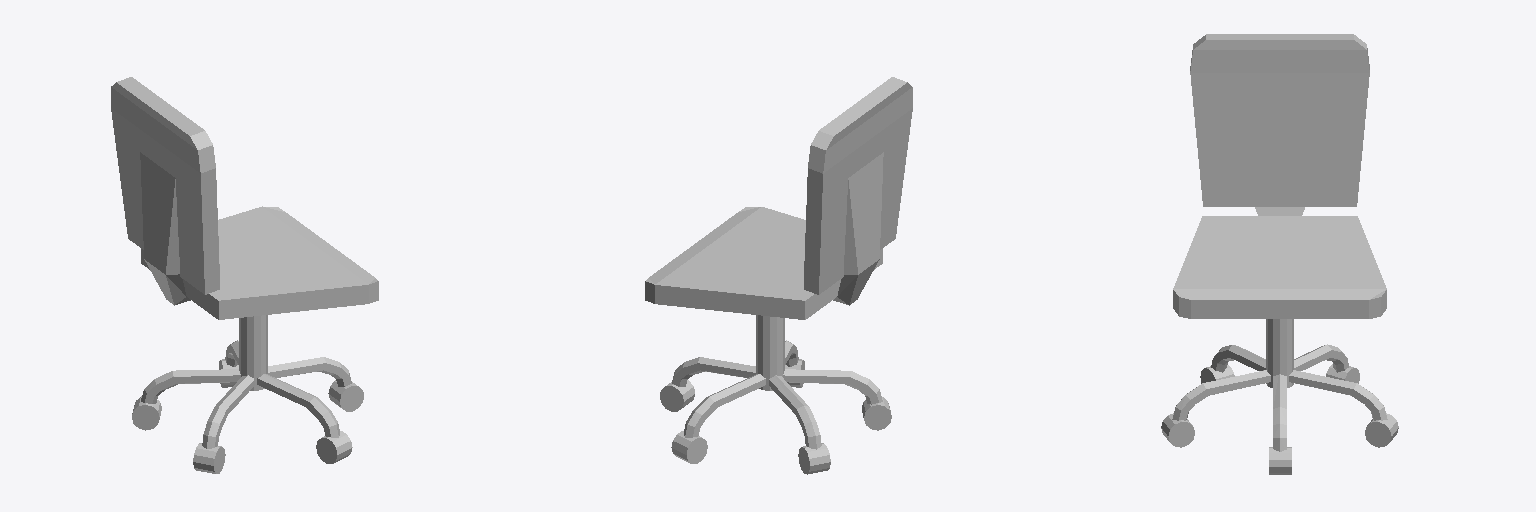
The model's file is chair.obj.
3 renders of one model, left to right at view 1: azimuth 30°, elevation 25°; view 2: azimuth 150°, elevation 25°; view 3: azimuth 270°, elevation 25°, orthographic.
Parts seen in each view (by area): view 1: office_chair_Cylinder; view 2: office_chair_Cylinder; view 3: office_chair_Cylinder.
Boxes of the visible parts, <box> form: office_chair_Cylinder: <box>111,77,378,473</box>; office_chair_Cylinder: <box>645,77,912,474</box>; office_chair_Cylinder: <box>1161,34,1398,474</box>.
Size of the model in its own units: 6.66 by 10.76 by 6.68.